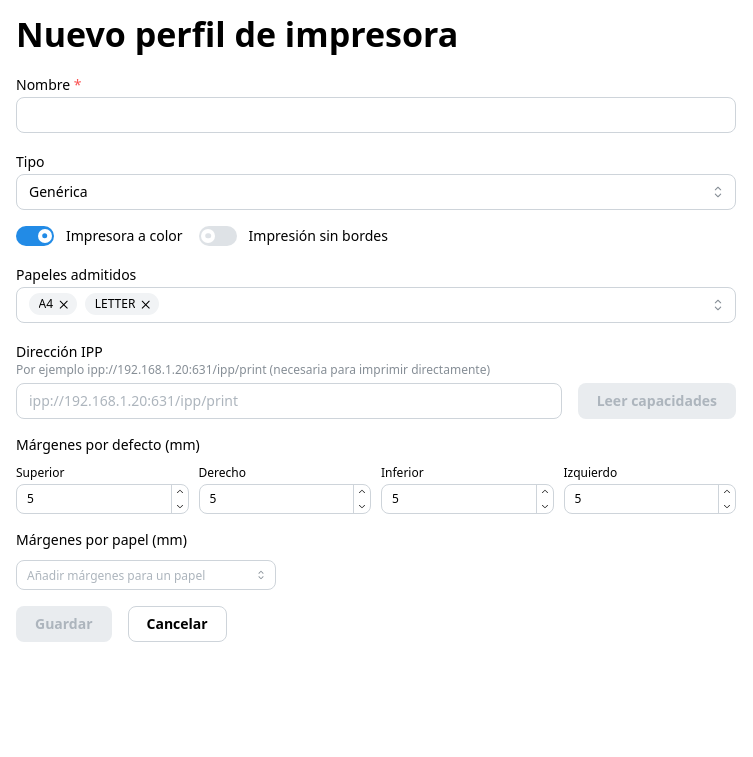
Test case: printer form: IPP capabilities (PAP-07) › shows the error when the printer cannot be reached
In the field labelled "Dirección IPP": (289, 401) x1=16 y1=383 x2=562 y2=419, type "ipp://10.0.0.9/ipp"
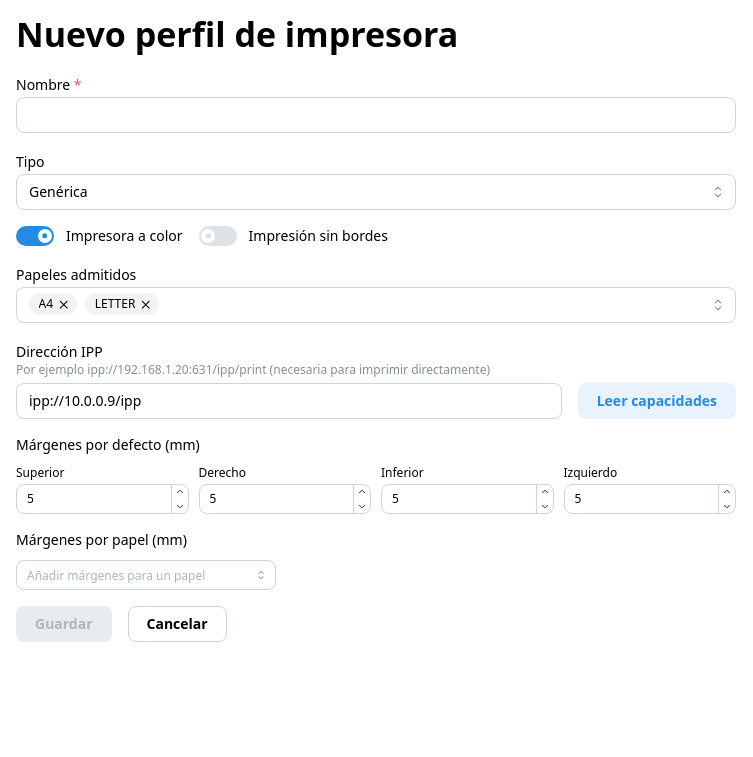
Click the button "Leer capacidades": (657, 401) x1=578 y1=383 x2=736 y2=419
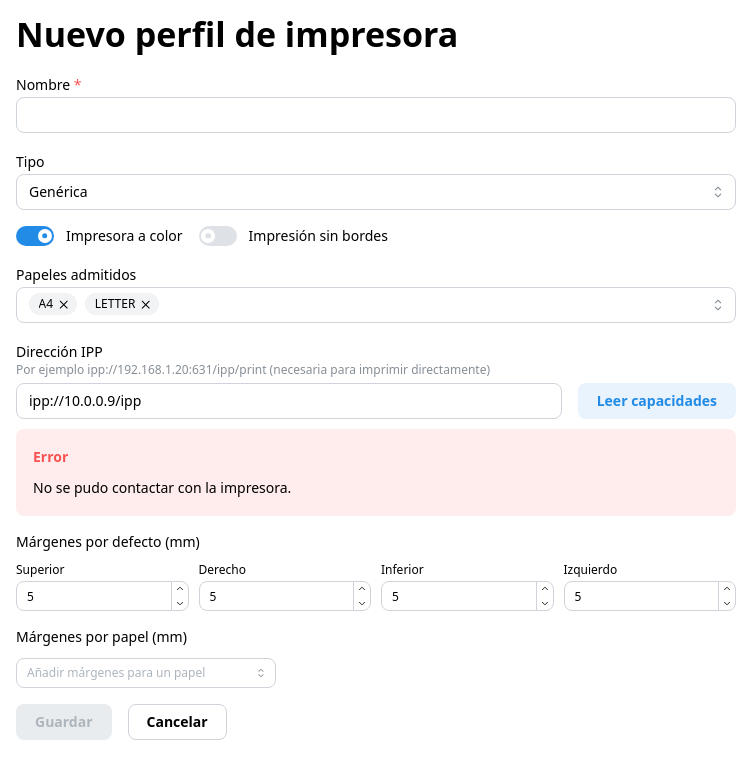
Now the message "Error No se pudo contactar con la impresora." is shown, box x1=16 y1=429 x2=736 y2=516
